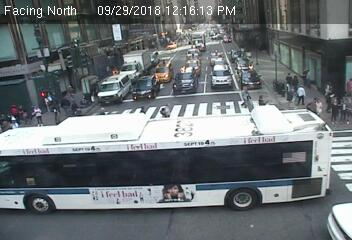car: (1, 112, 331, 207), (96, 74, 131, 104), (326, 202, 350, 240), (121, 51, 153, 78), (211, 64, 232, 89), (173, 73, 198, 93), (136, 74, 156, 99), (237, 71, 266, 88), (154, 61, 175, 83), (189, 32, 208, 51), (236, 56, 253, 73), (185, 58, 203, 74), (210, 53, 229, 65), (187, 48, 203, 62), (166, 39, 179, 51), (225, 33, 234, 43)
